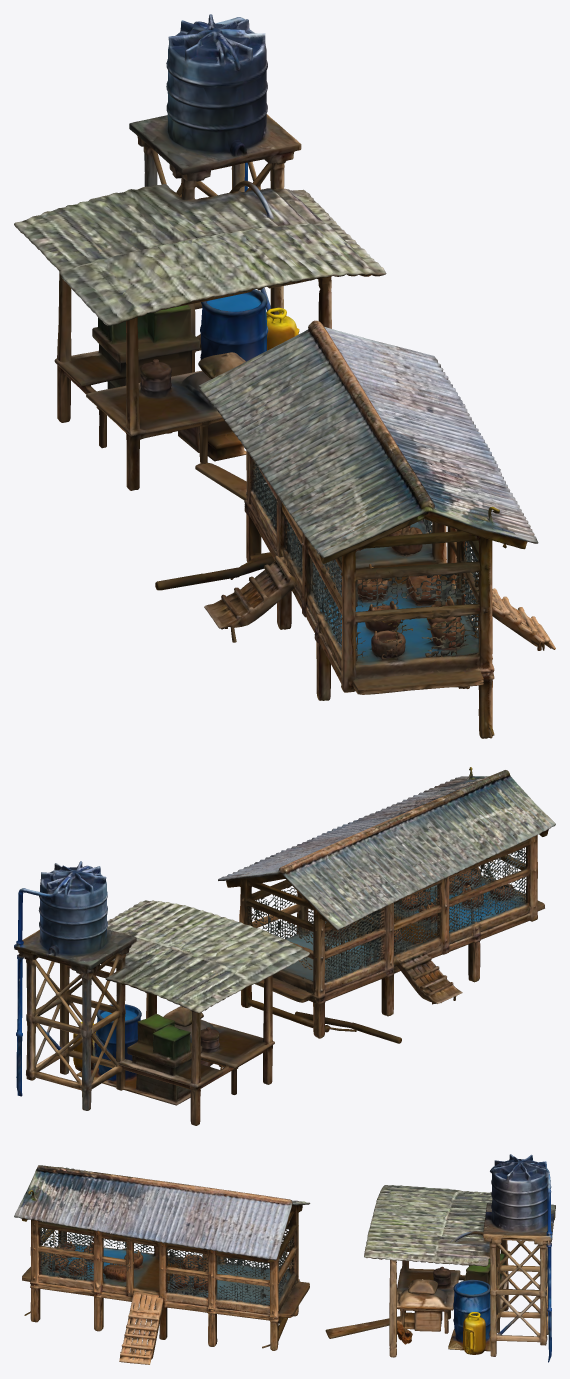
Rendered from coop.glb.
3 views of the same model, one above another, from view 1: azimuth 30°, elevation 25°; view 2: azimuth 150°, elevation 25°; view 3: azimuth 270°, elevation 25° (orthographic). The views are drawn at different scales.
Parts seen in each view (by area): view 1: tripo_node_d58a86cd-db83-4299-b80b-684b7bfcae28; view 2: tripo_node_d58a86cd-db83-4299-b80b-684b7bfcae28; view 3: tripo_node_d58a86cd-db83-4299-b80b-684b7bfcae28.
Boxes of the visible parts, bbox=[...] form: tripo_node_d58a86cd-db83-4299-b80b-684b7bfcae28: bbox=[14, 14, 555, 738]; tripo_node_d58a86cd-db83-4299-b80b-684b7bfcae28: bbox=[14, 767, 555, 1125]; tripo_node_d58a86cd-db83-4299-b80b-684b7bfcae28: bbox=[14, 1154, 555, 1364].
Bounding box in the file's own units: 0.4202 × 0.399 × 0.9609.
1 material, 1 textured.
